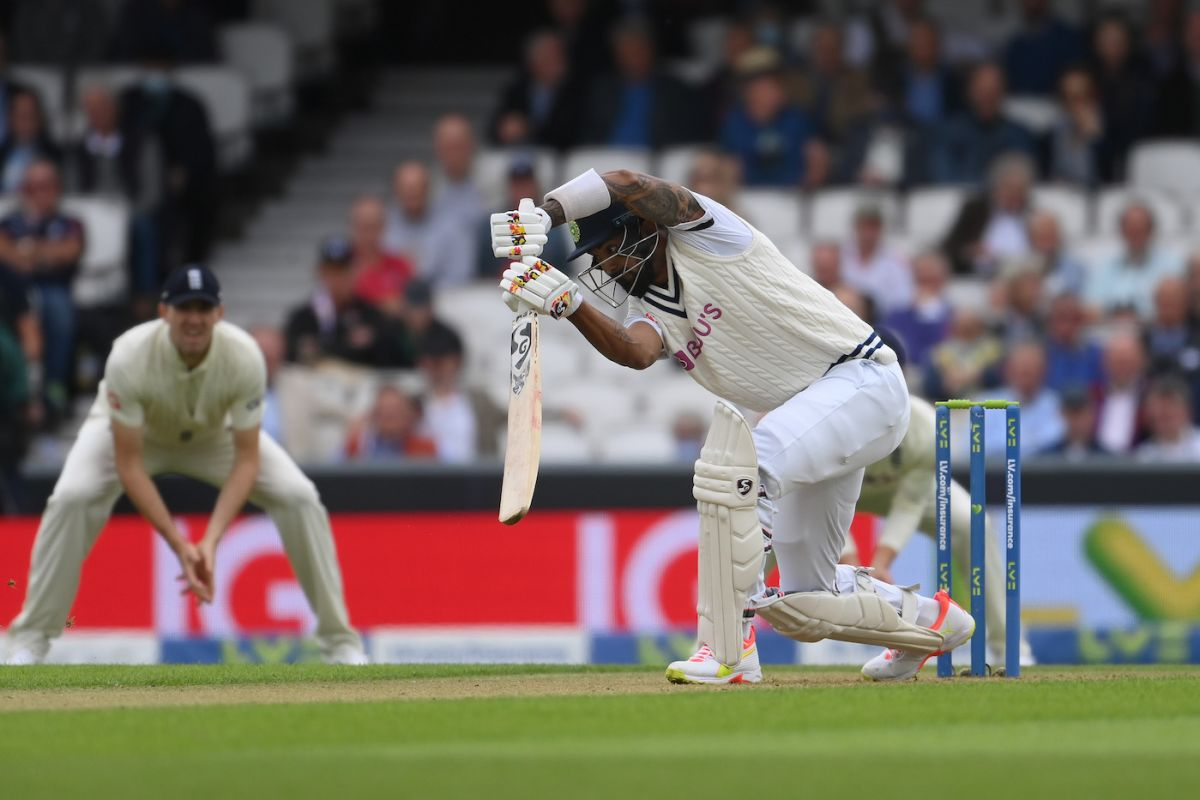Defence: (381, 3, 1063, 800)
